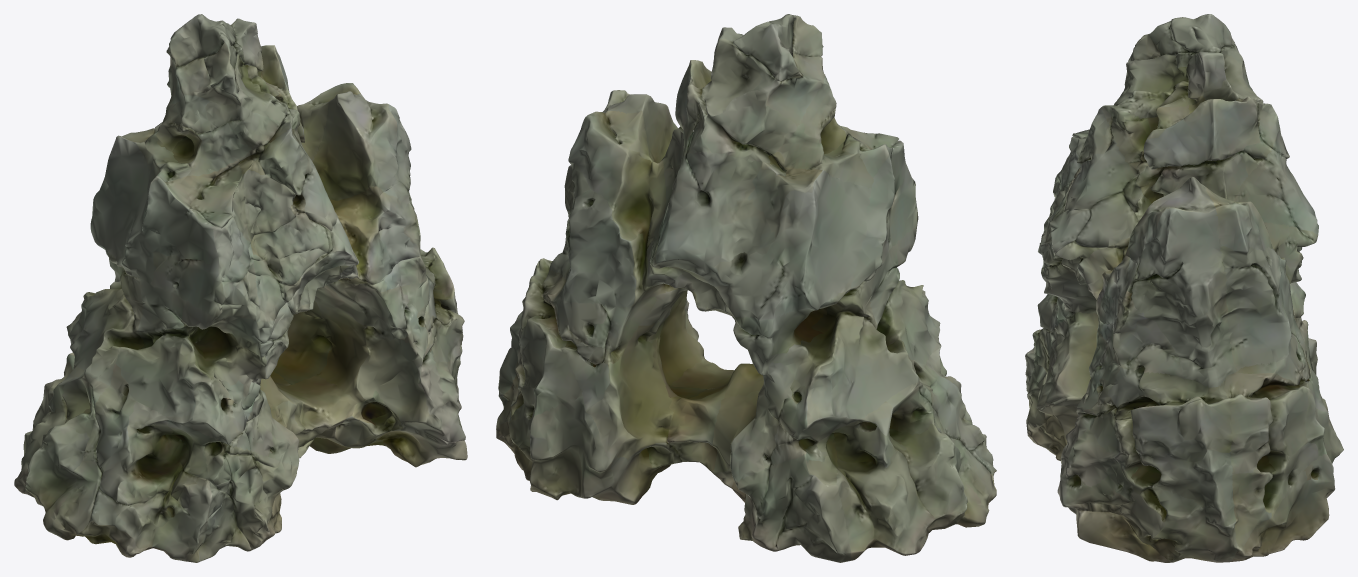
Rendered from Dieshi_8.glb.
The picture shows the model from 3 angles, left to right: view 1: azimuth 30°, elevation 25°; view 2: azimuth 150°, elevation 25°; view 3: azimuth 270°, elevation 25°; orthographic projection. The views are drawn at different scales.
Visible parts, largest first — view 1: tripo_node_5ea0269c-fb9e-4a5b-99fa-ab23116f5d8b; view 2: tripo_node_5ea0269c-fb9e-4a5b-99fa-ab23116f5d8b; view 3: tripo_node_5ea0269c-fb9e-4a5b-99fa-ab23116f5d8b.
Boxes of the visible parts, x1=… form: tripo_node_5ea0269c-fb9e-4a5b-99fa-ab23116f5d8b: x1=14, y1=14, x2=467, y2=562; tripo_node_5ea0269c-fb9e-4a5b-99fa-ab23116f5d8b: x1=496, y1=14, x2=996, y2=562; tripo_node_5ea0269c-fb9e-4a5b-99fa-ab23116f5d8b: x1=1025, y1=14, x2=1343, y2=562.
Size of the model in its own units: 0.9678 by 0.9826 by 0.6329.
1 material, 1 textured.
